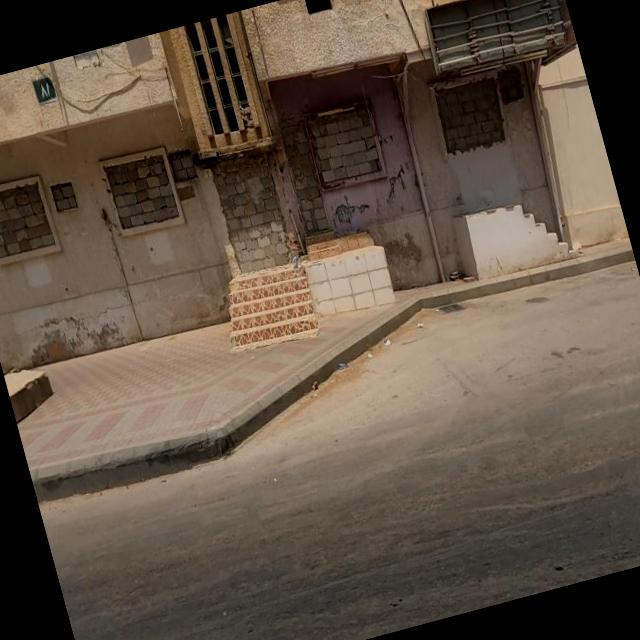debris: (332, 294, 427, 394), (261, 212, 326, 312), (314, 326, 376, 398), (401, 292, 444, 354), (290, 357, 340, 408)
